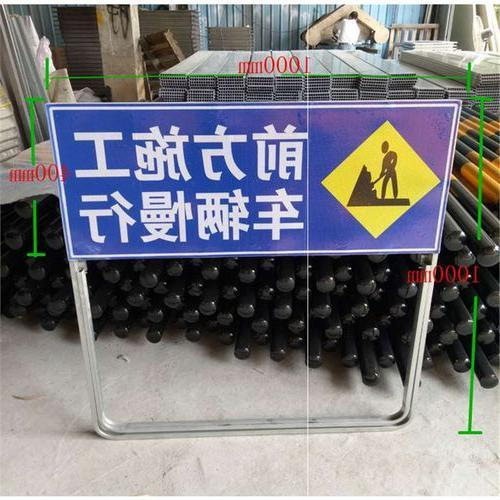sign: (47, 100, 464, 258)
